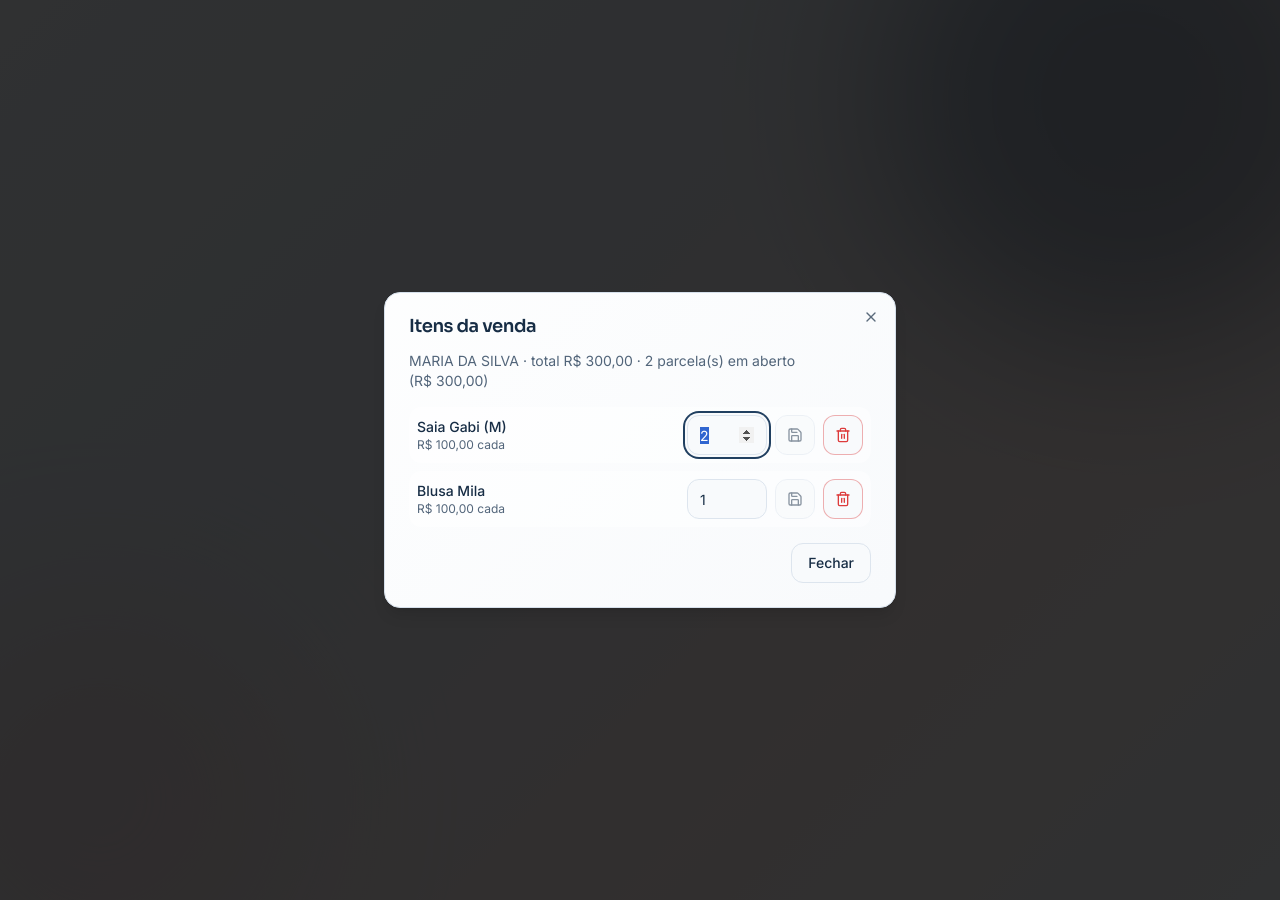
Test: SaleItemsDialog (alterar / excluir item da venda) › excluir item manda quantidade 0; erro do banco aparece e nada é recarregado
This screenshot has width=1280, height=900.
Later steps or results of the test are not shown.
Check: the text "2 parcela(s) em aberto" is shown, box [409, 352, 795, 389]
Click the button titled "Excluir item" in the row of "Blusa Mila". click: (843, 499)
box: [823, 479, 863, 519]
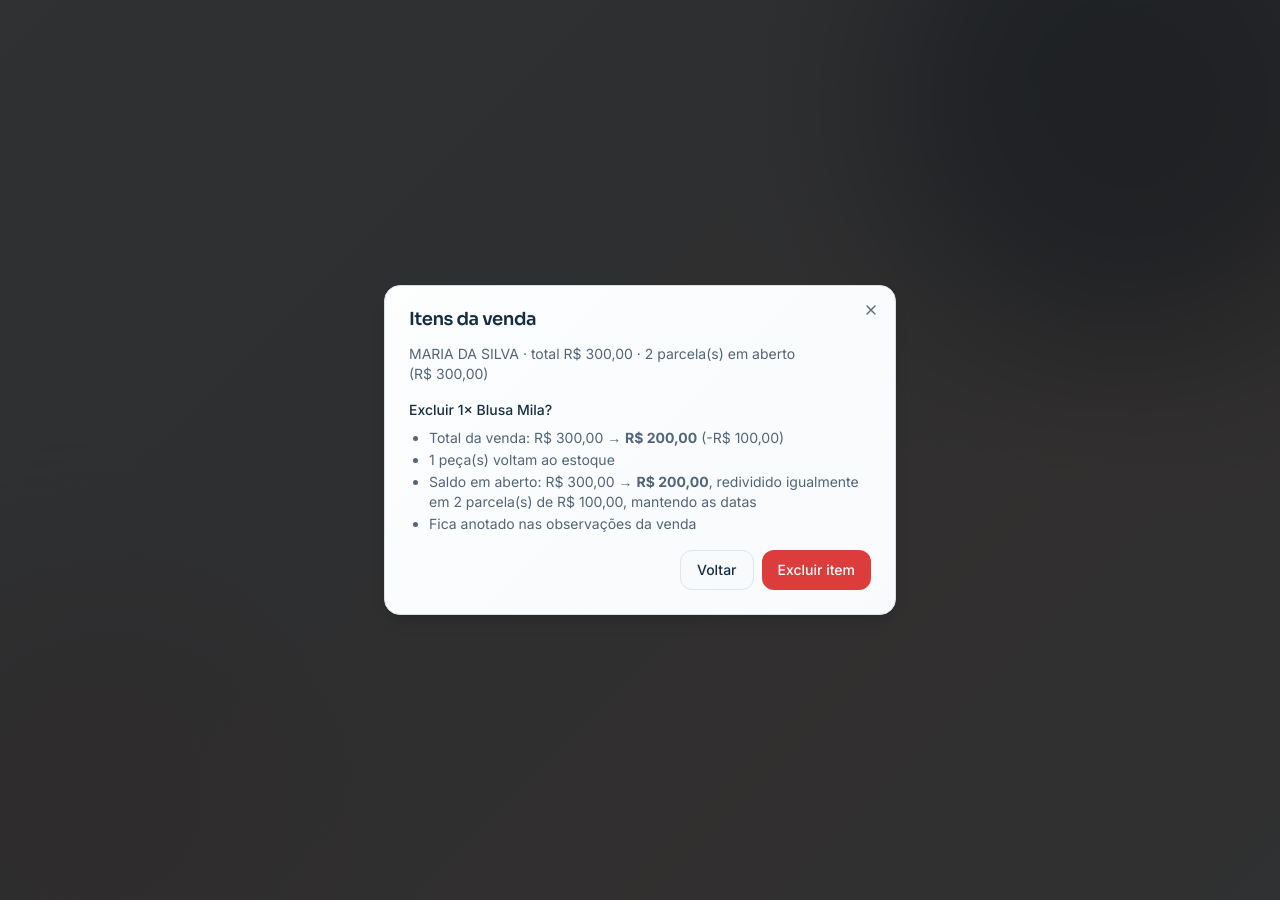
Check: the text "Excluir 1× Blusa Mila?" is shown, box [409, 401, 552, 418]
